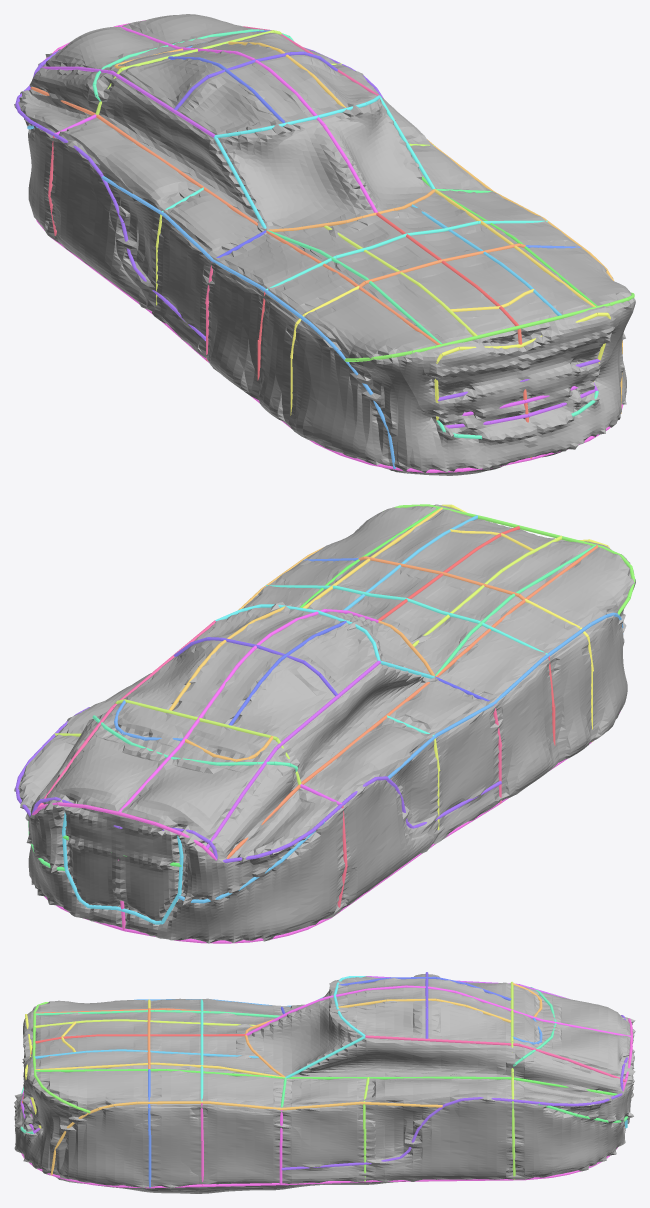
The model's file is t2f_car_97.gltf.
3 views of the same model, one above another, from view 1: azimuth 30°, elevation 25°; view 2: azimuth 150°, elevation 25°; view 3: azimuth 270°, elevation 25° (orthographic). The views are drawn at different scales.
Bounding box in the file's own units: 0.3887 × 0.2781 × 0.9043.
